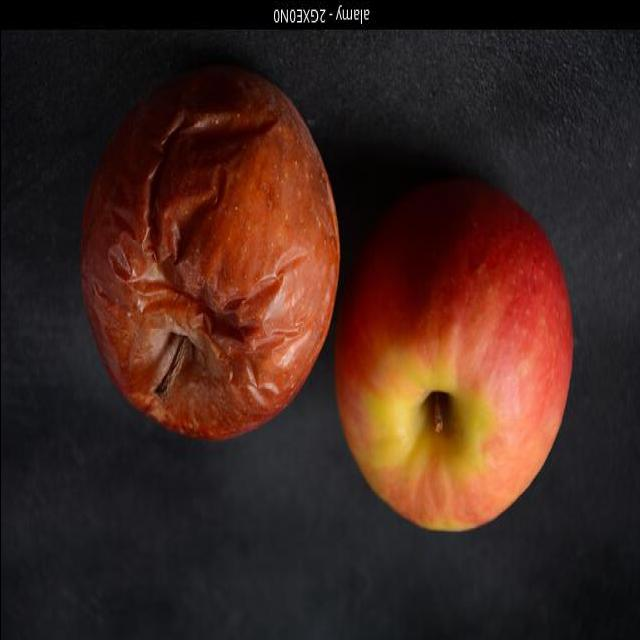apple_fruit: (320, 123, 601, 577), (57, 33, 348, 463)
